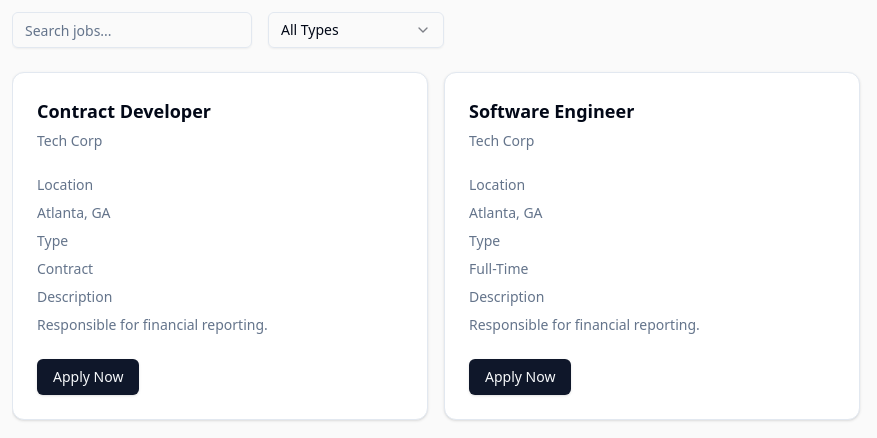
Test: JobList › should filter jobs when selecting type › should show only contract jobs
The width and height of the screenshot is (877, 438).
Click the dropdown: click(356, 30) [268, 12, 444, 48]
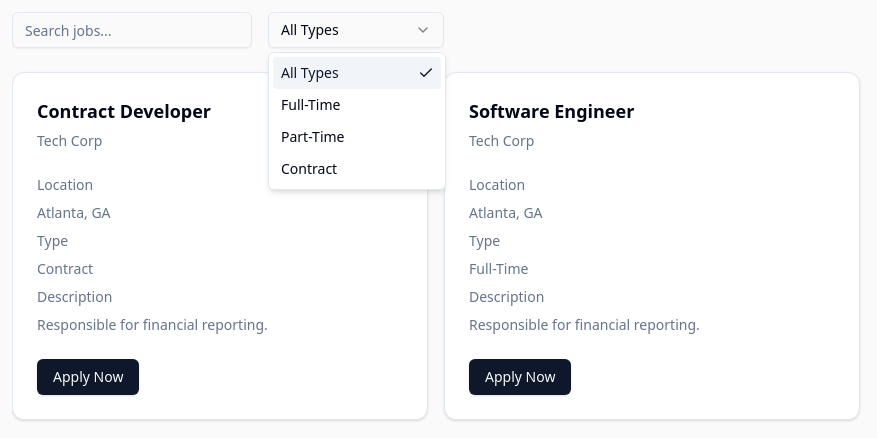
Click the option "Contract": click(309, 168) [281, 159, 337, 178]
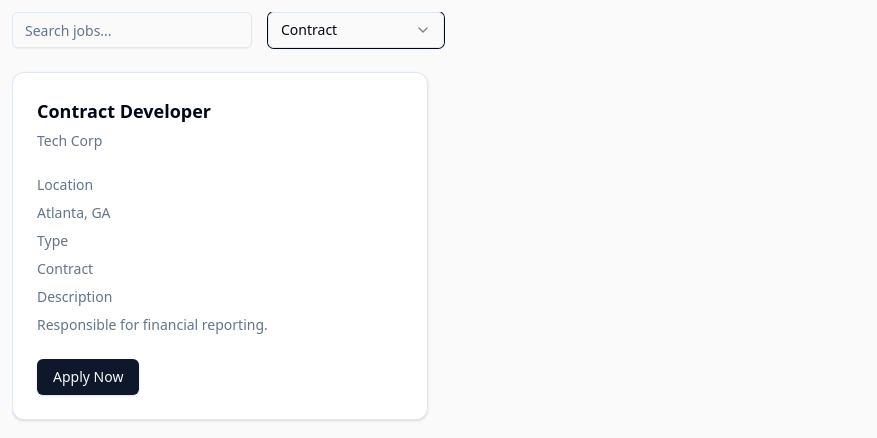
Expected: the heading "Contract Developer" is shown, [37, 99, 211, 123]
Now the number of list items with test id "job-card" is 1, box [12, 72, 428, 420]
Now the heading "Software Engineer" is gone
